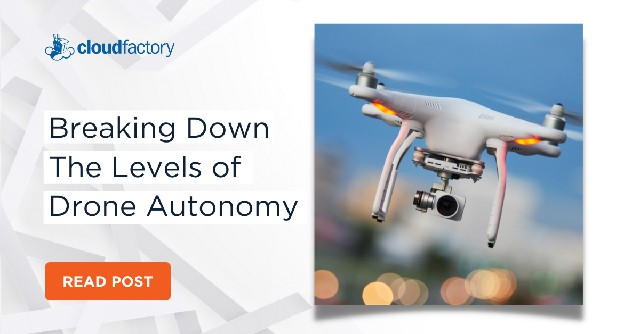maybay_khongnguoilai: (312, 48, 568, 261)
